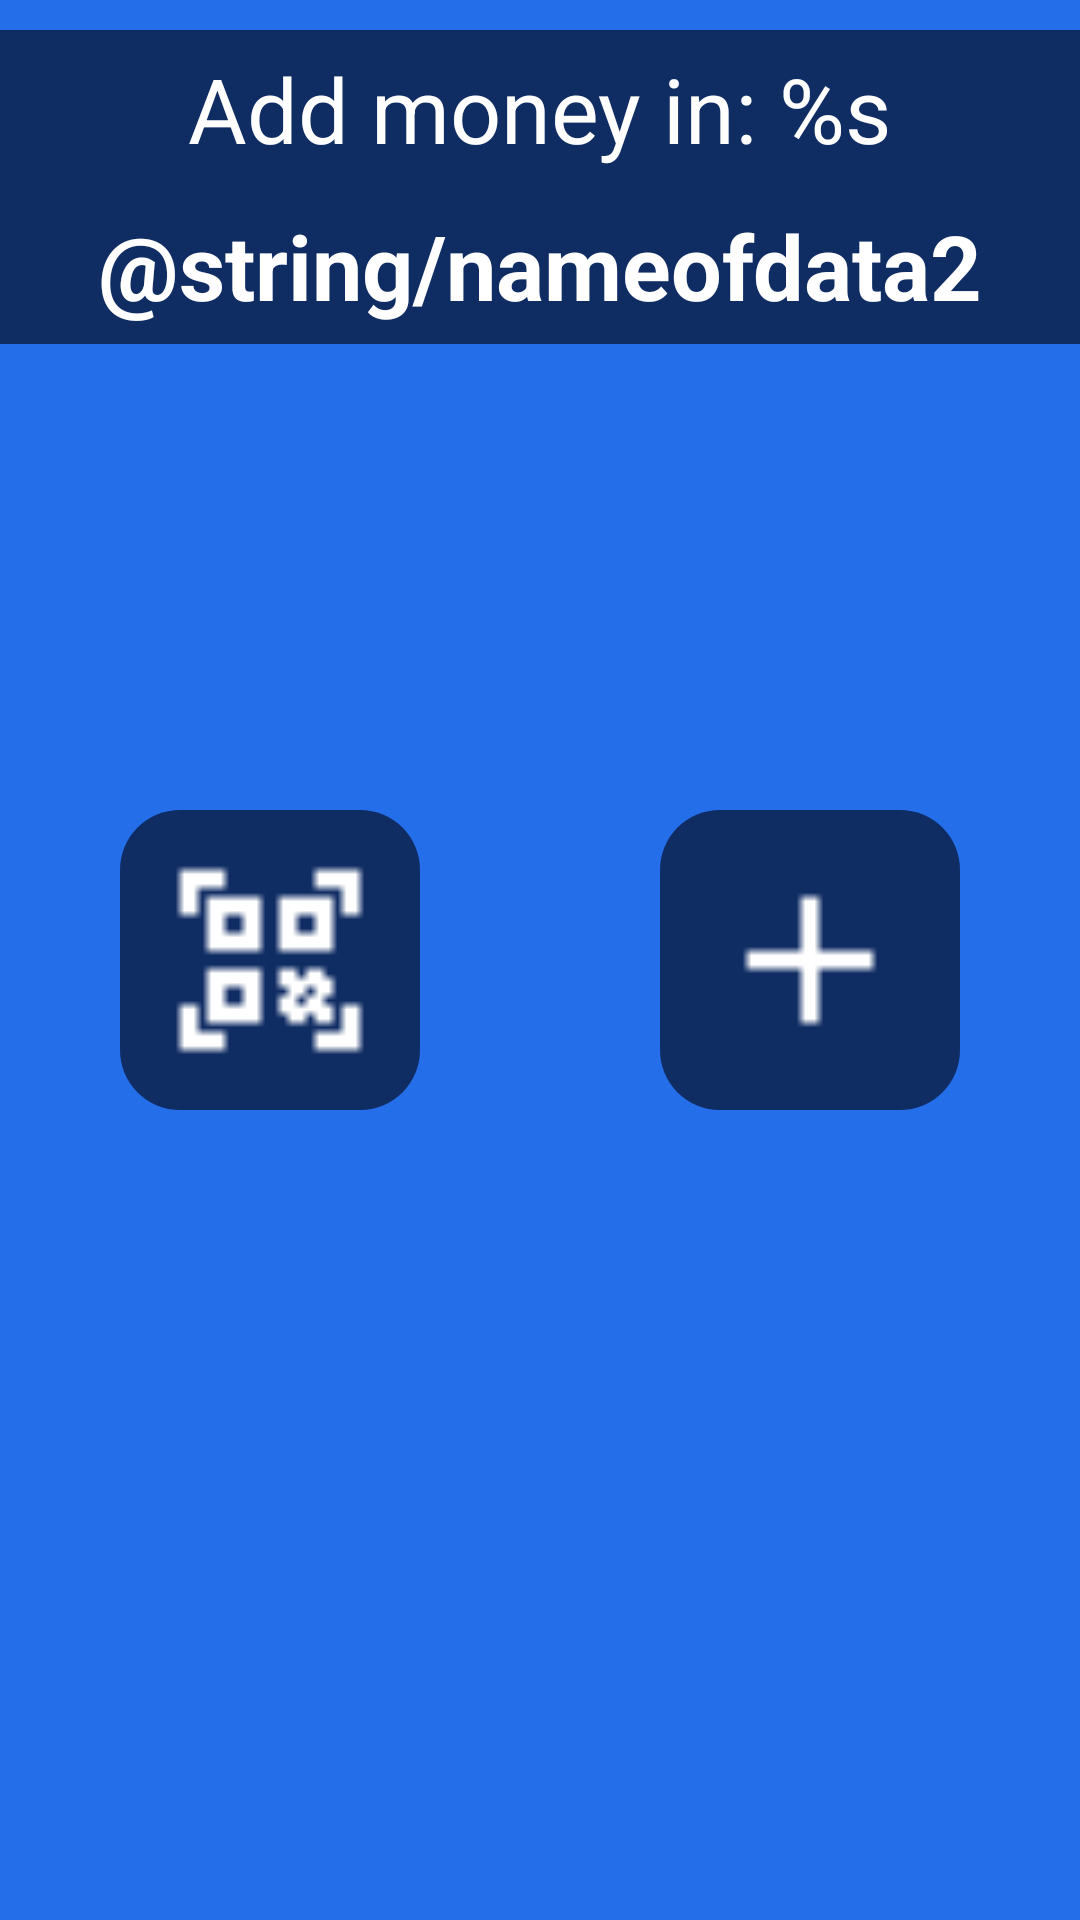

Icons on this 1080×1920 Android screen, each with the point to tap as point (x, y):
add: point (810, 960)
